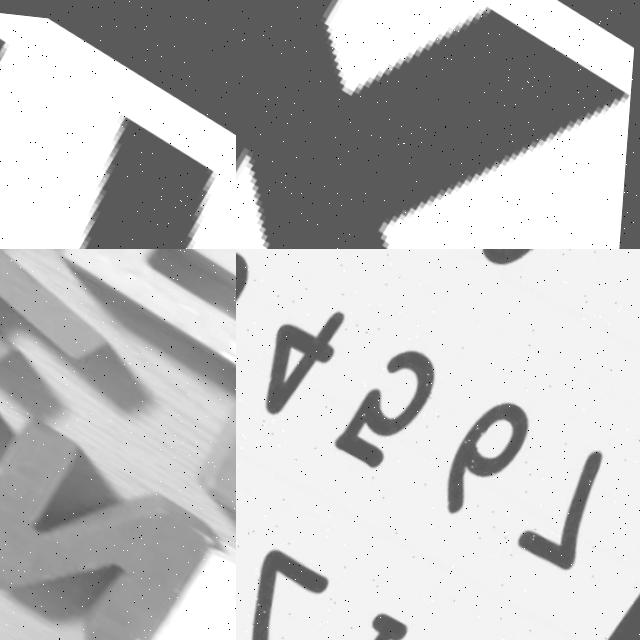0: (430, 249, 599, 313)
1: (291, 571, 434, 640)
2: (377, 597, 553, 640)
3: (236, 249, 280, 393)
4: (236, 249, 382, 449)
5: (296, 297, 477, 514)
6: (391, 346, 568, 561)
7: (492, 400, 640, 604)
E: (0, 249, 138, 477)
F: (36, 249, 236, 390)
H: (0, 0, 236, 249)
K: (236, 0, 640, 249)
N: (0, 390, 236, 640)
P: (160, 278, 236, 553)
